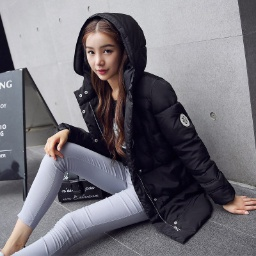face: (77, 16, 136, 96)
